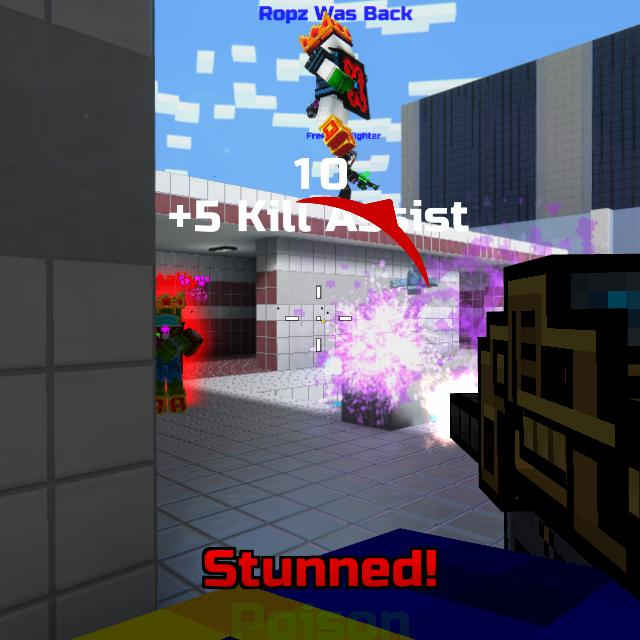Enemy: (156, 290, 204, 415)
